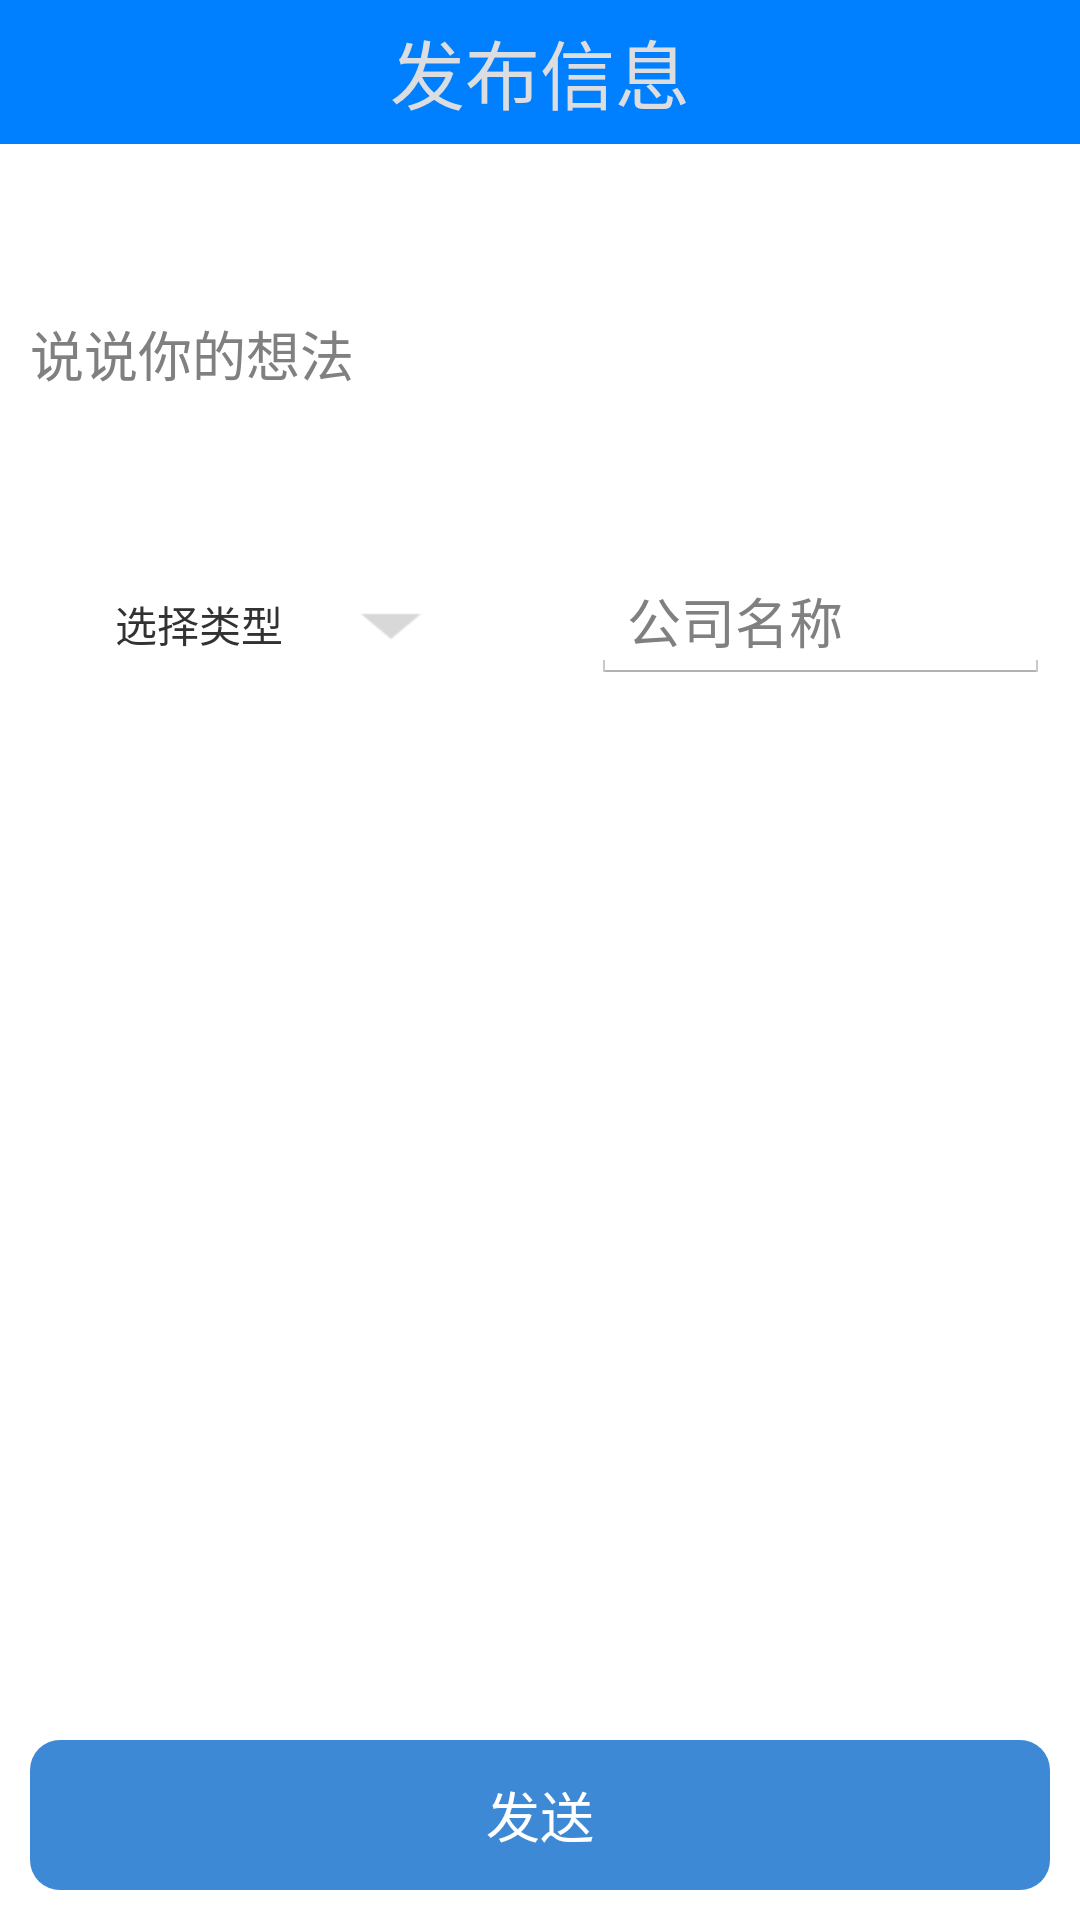

Icons on this 1080px x 1920px Android screen, each with the point to tap as point (x, y):
down: point (391, 626)
